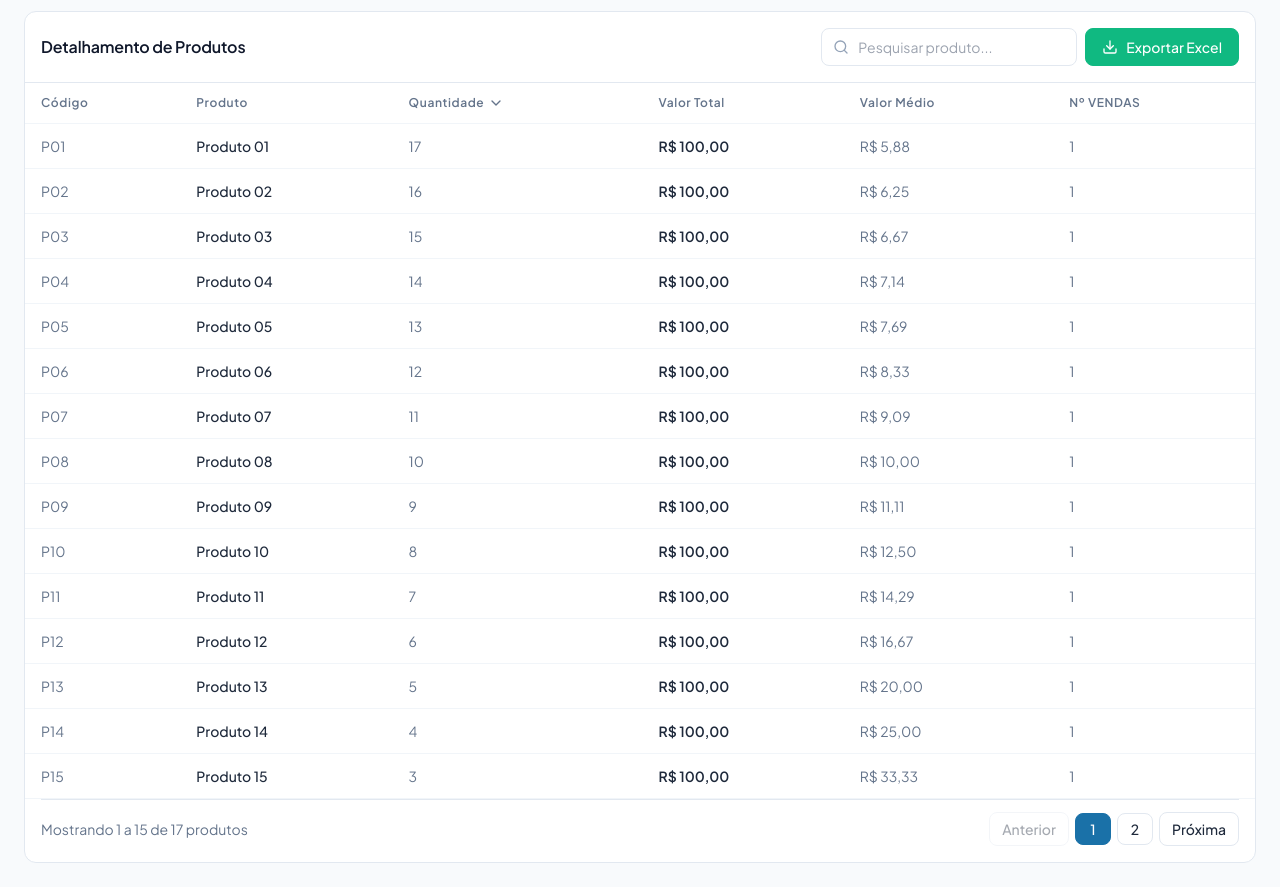
Test case: paginacao em Produtos › filtrar volta para a primeira pagina
(page scrolled)
Click the button "Próxima" at point(1199, 829), box [1159,812,1239,846]
(page scrolled)
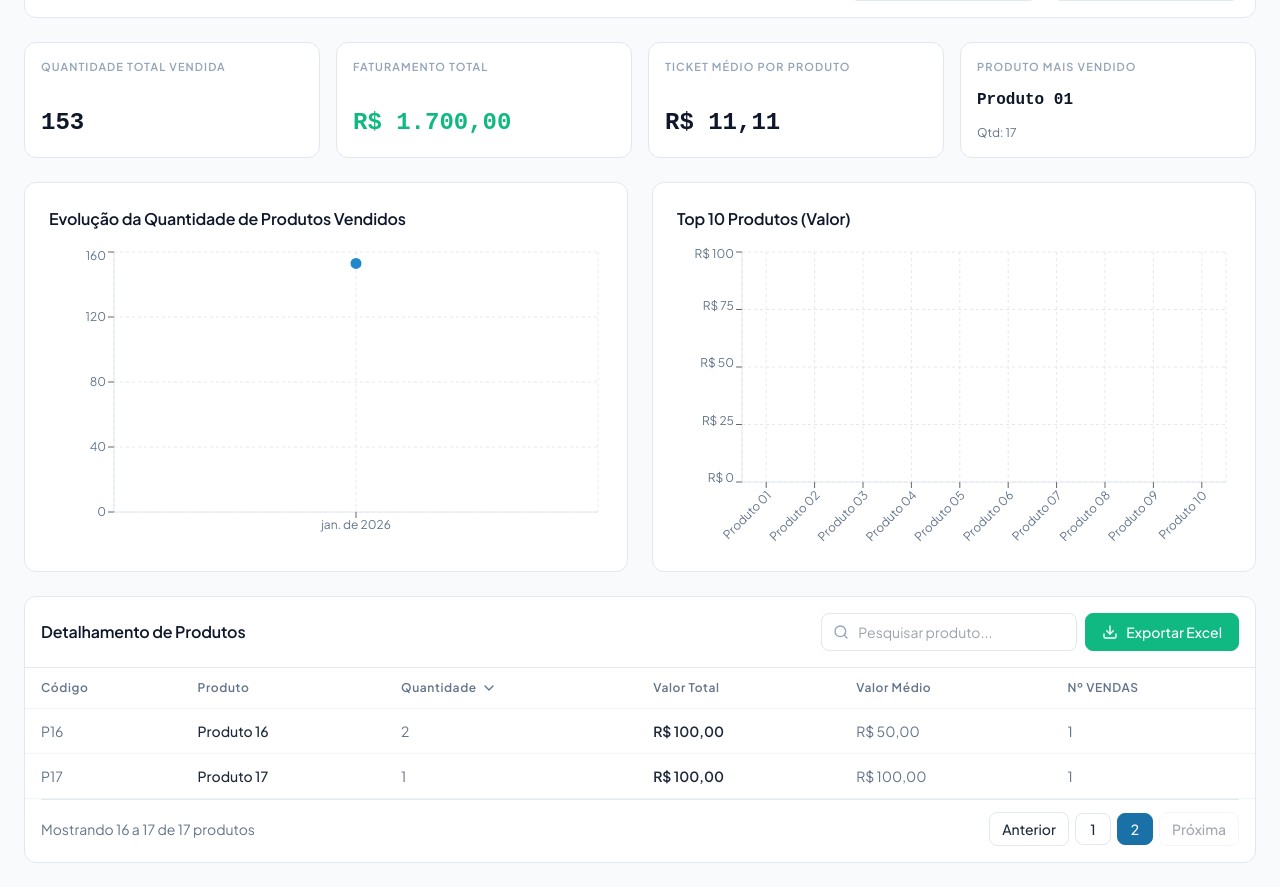
Expected: the text "Mostrando 16 a 17 de 17 produtos" is shown, [41,819,255,839]
Type "Produto 0" into the field with placeholder "Pesquisar produto..." at point(949, 632), box [821,613,1077,651]
(page scrolled)
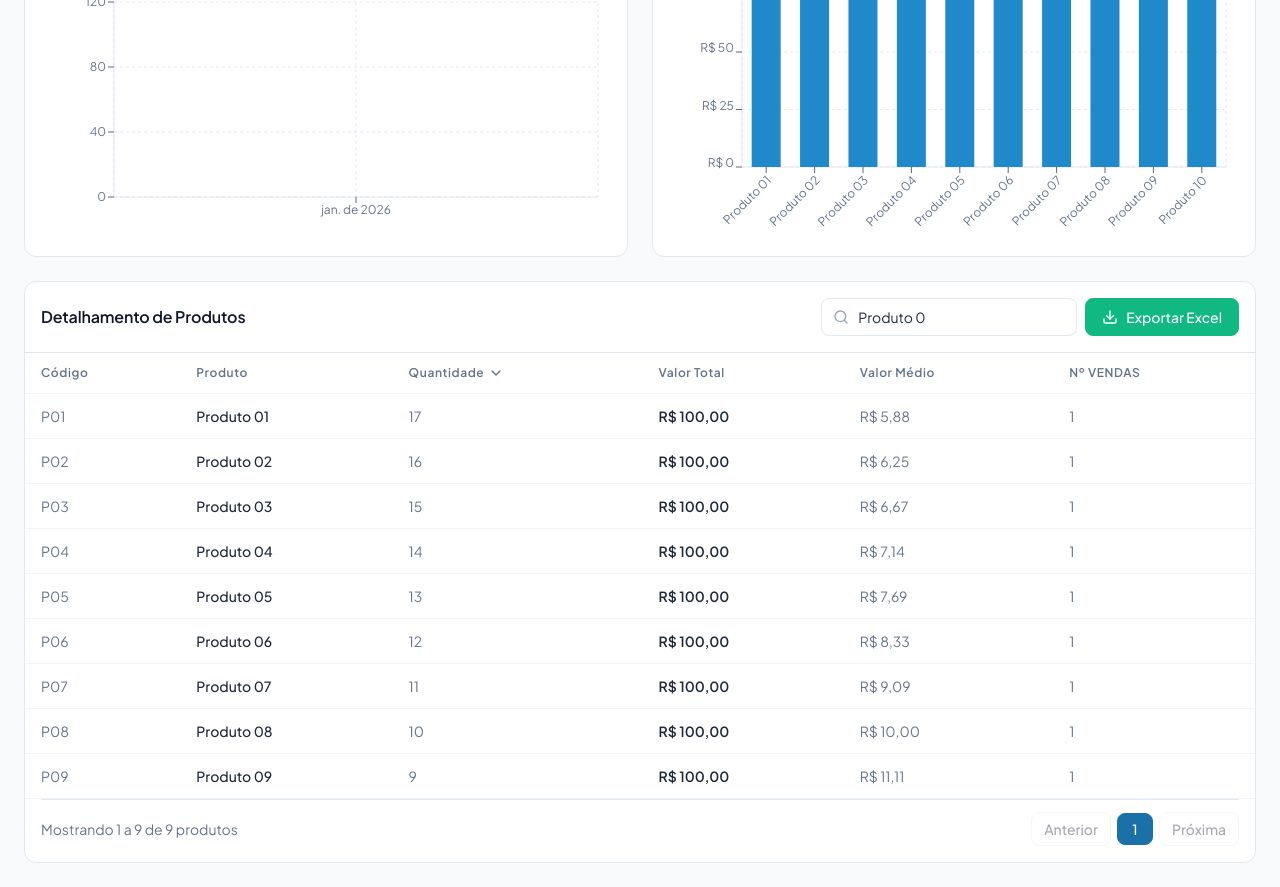
Expected: the text "Mostrando 1 a 9 de 9 produtos" is shown, [41,819,238,839]
Expected: the row "P01 Produto 01 17 R$ 100,00 R$ 5,88 1" is shown, [25,394,1255,438]
